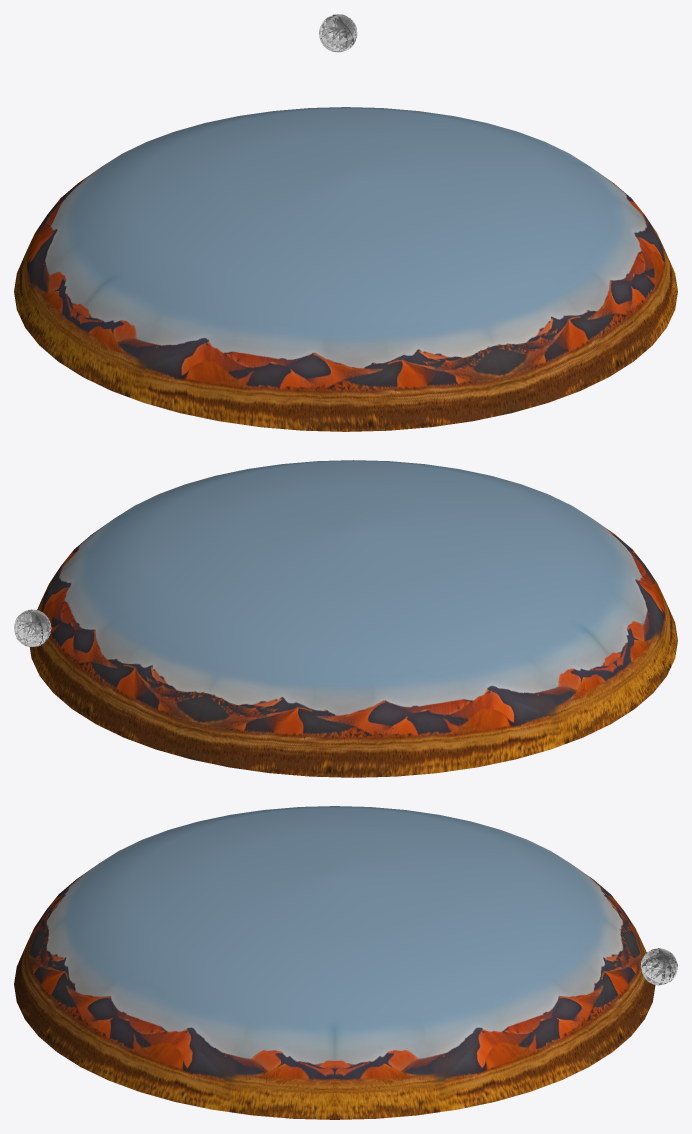
File: desert_skydome.dae
3 views of the same model, one above another, from view 1: azimuth 30°, elevation 25°; view 2: azimuth 150°, elevation 25°; view 3: azimuth 270°, elevation 25° (orthographic). The views are drawn at different scales.
Visible parts, largest first — view 1: Skydome_Morning_001; view 2: Skydome_Morning_001; view 3: Skydome_Morning_001.
Boxes of the visible parts, x1,y1,x2,y2 form: Skydome_Morning_001: (14,107,677,431); Skydome_Morning_001: (29,460,677,777); Skydome_Morning_001: (14,806,655,1119).
Size of the model in its own units: 1751 by 1812 by 332.
Materials: 2 (2 with a texture image).
